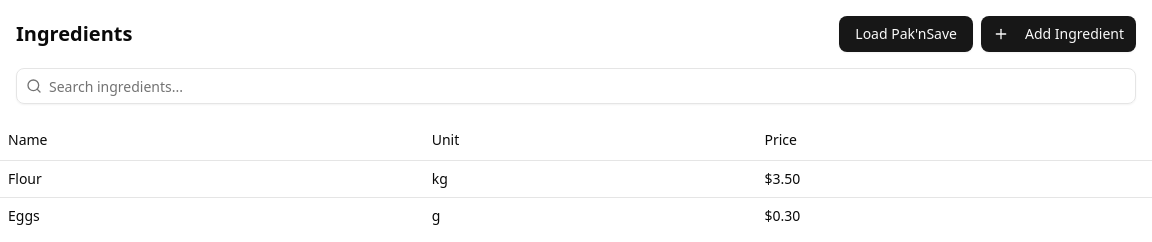
Scenario: IngredientList › returns to normal mode when Back button is clicked
Step 1. Click the button "Load Pak'nSave" → (906, 34), box left=839, top=16, right=973, bottom=52
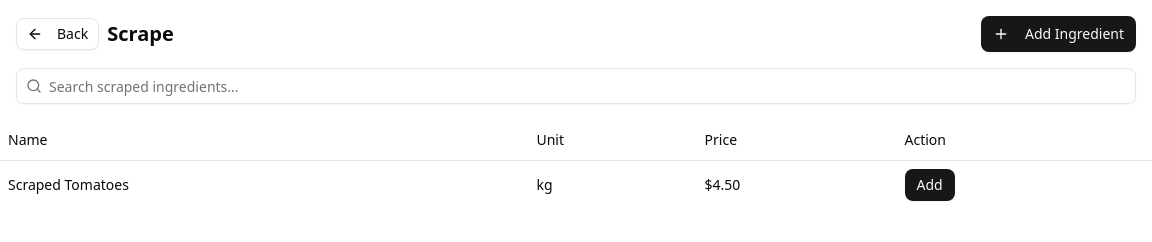
Expected: the heading "Scrape" is shown, left=107, top=20, right=174, bottom=48
Step 2. Click the button "Back" → (58, 34), box left=16, top=18, right=99, bottom=50
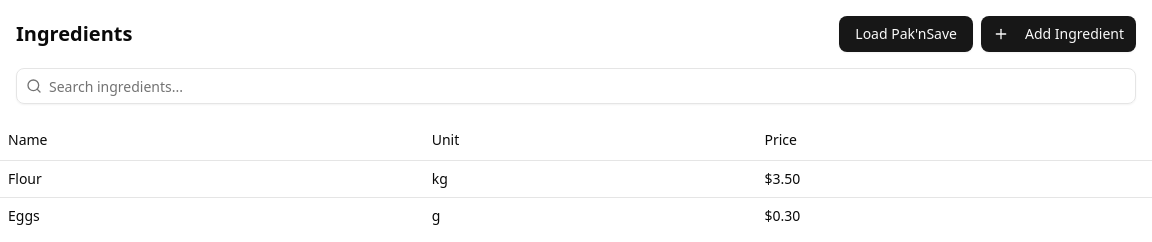
Expected: the heading "Ingredients" is shown, left=16, top=20, right=132, bottom=48
Expected: the button "Load Pak'nSave" is shown, left=839, top=16, right=973, bottom=52
Expected: the button "Back" is gone
